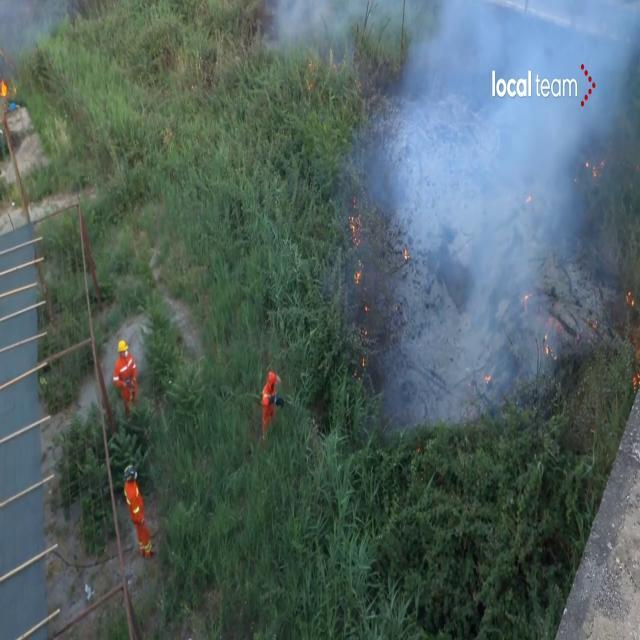Smoke: (367, 0, 639, 407)
